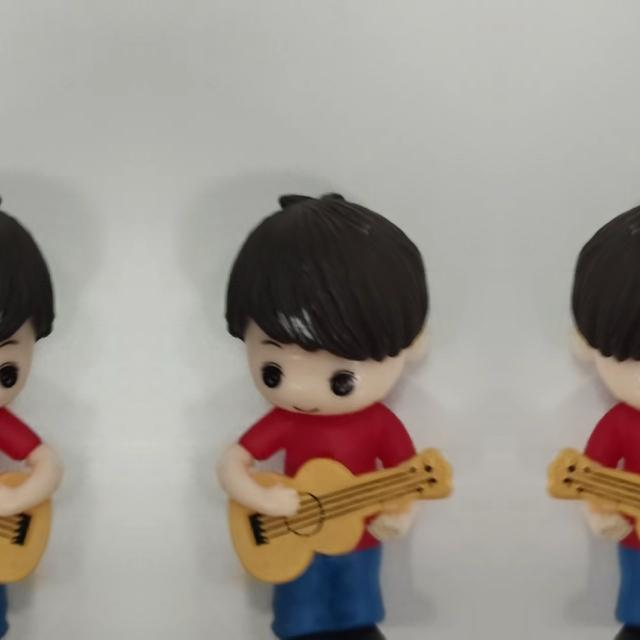man cloth: (238, 406, 420, 554), (579, 405, 640, 554), (0, 405, 42, 554)
man head: (222, 183, 433, 425), (566, 183, 640, 425), (0, 183, 57, 425)
trousers: (269, 556, 396, 638), (603, 556, 640, 638), (0, 556, 10, 638)
